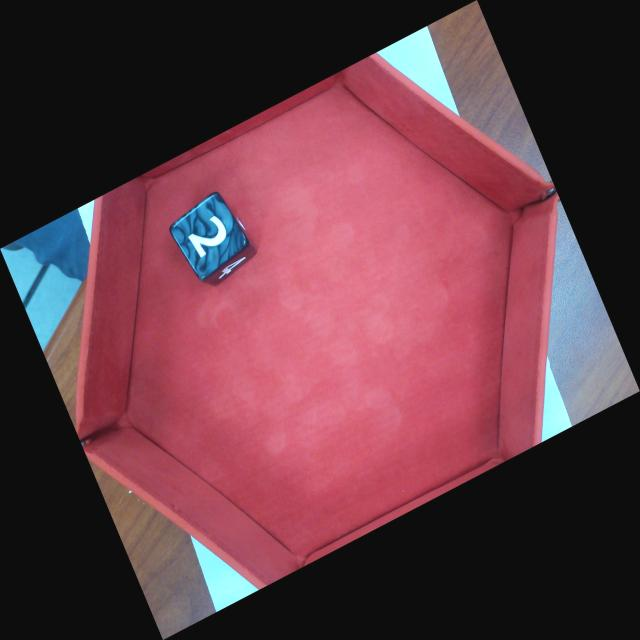dice: (172, 190, 251, 281)
